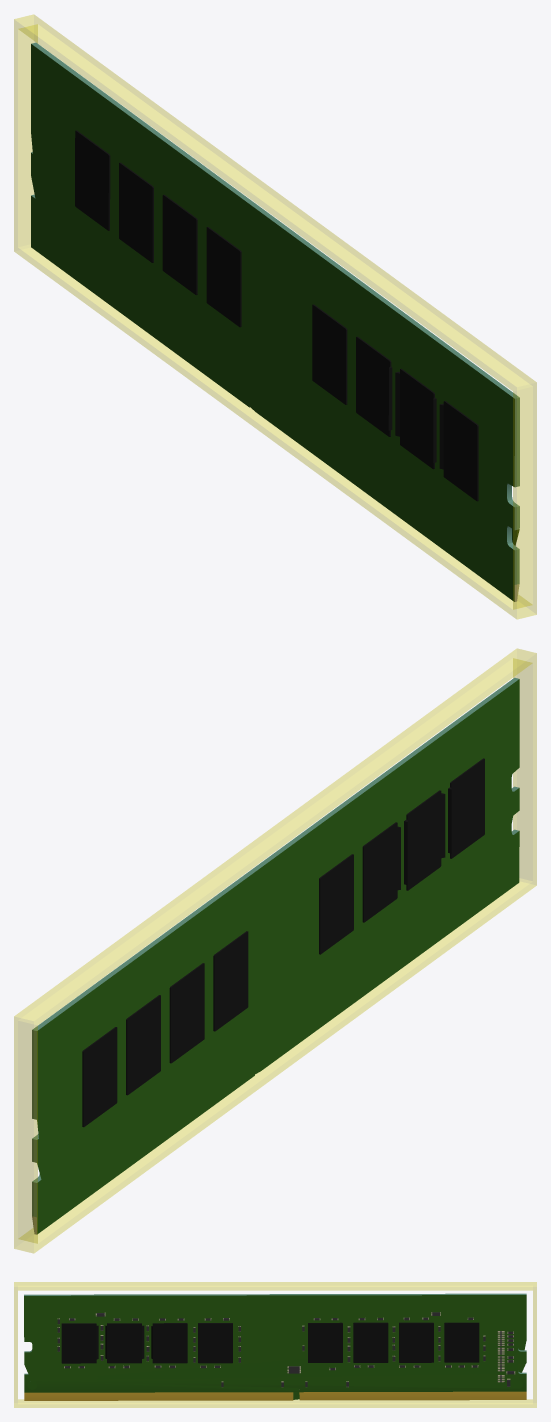
File: RAM.fbx
The picture shows the model from 3 angles, top to bottom: view 1: azimuth 30°, elevation 25°; view 2: azimuth 150°, elevation 25°; view 3: azimuth 270°, elevation 25°; orthographic projection. The views are drawn at different scales.
Visible parts, largest first — view 1: Планка на 8 ГБ, Plane; view 2: Планка на 8 ГБ, Plane; view 3: Планка на 8 ГБ, Plane.
Boxes of the visible parts, box(x1,y1,x2,y2) form: Планка на 8 ГБ: box(31, 42, 519, 601); Plane: box(14, 14, 536, 619); Планка на 8 ГБ: box(32, 677, 519, 1234); Plane: box(14, 648, 536, 1253); Планка на 8 ГБ: box(24, 1293, 526, 1400); Plane: box(14, 1282, 536, 1407).
Bounding box in the file's own units: 6.39 × 70.73 × 277.
